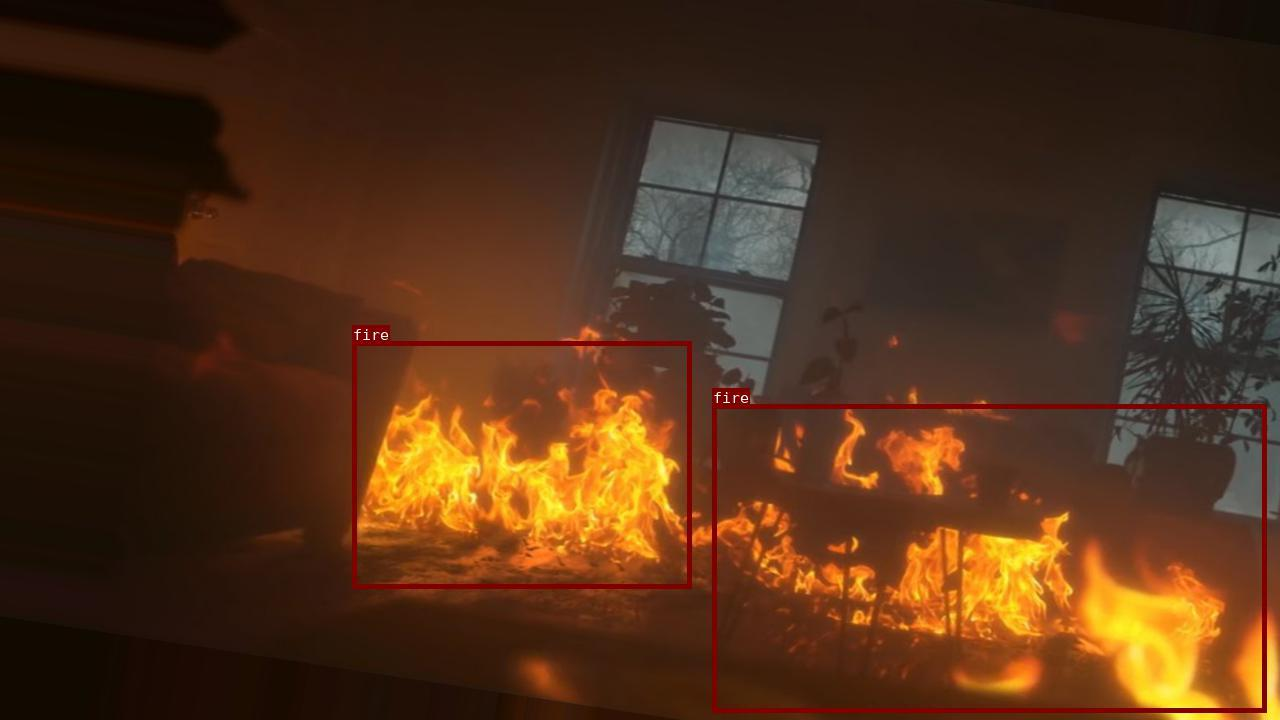fire: (711, 404, 1266, 711), (352, 340, 691, 587)
